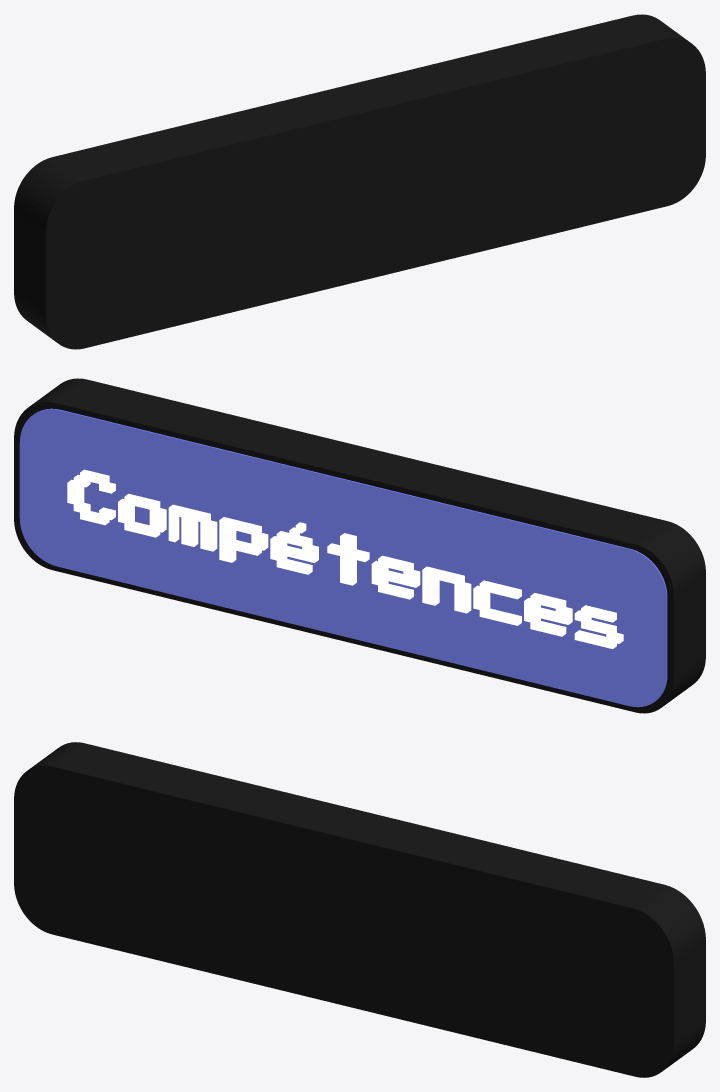
Rendered from btn-competences.glb.
The picture shows the model from 3 angles, top to bottom: view 1: azimuth 30°, elevation 25°; view 2: azimuth 150°, elevation 25°; view 3: azimuth 330°, elevation 25°; orthographic projection.
Parts seen in each view (by area): view 1: Cube.001; view 2: Cube, Cube.001, Text; view 3: Cube.001.
Boxes of the visible parts, x1,y1,x2,y2 form: Cube.001: (14,14,705,349); Cube: (19,408,667,707); Cube.001: (14,378,705,713); Text: (67,469,623,648); Cube.001: (14,742,705,1077).
Bounding box in the file's own units: 8.8 × 2.14 × 0.8568.
